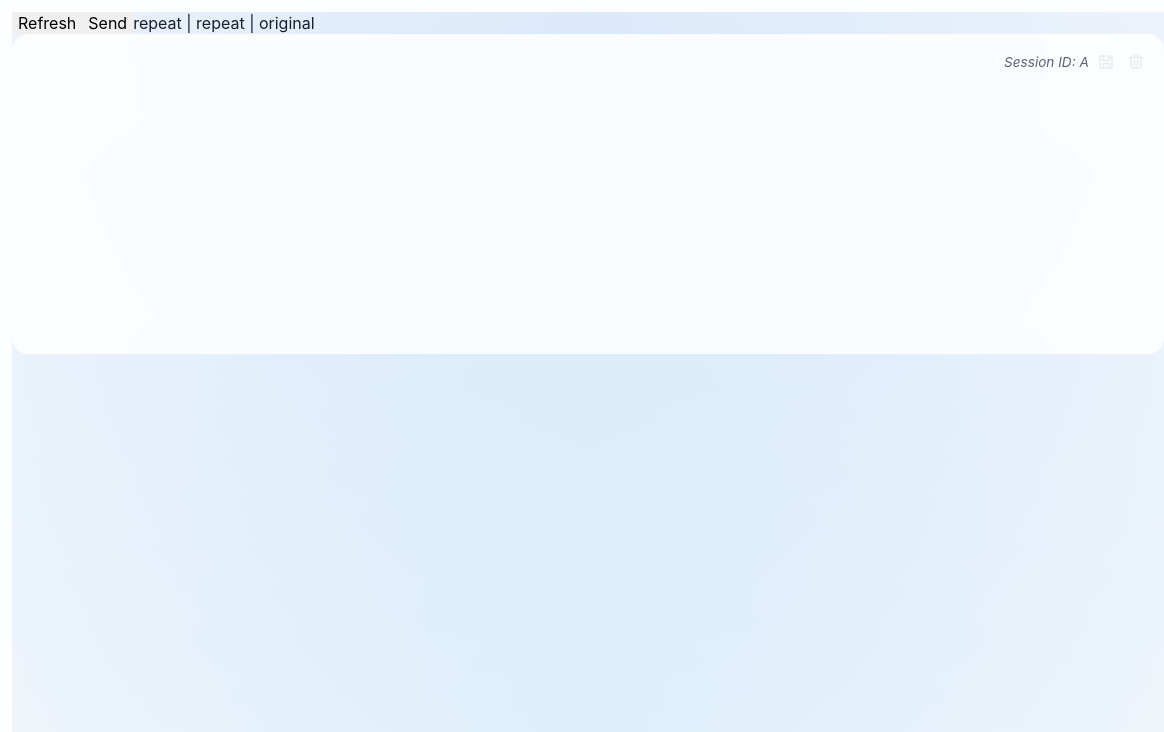
Test: retains a snapshot transcript and actionable history UI on refresh failure, then recovers
Expected: the text named "Transcript" reads "repeat | repeat | original", [133,13,315,33]
Click the button "Refresh": (47, 23) [12,12,82,34]
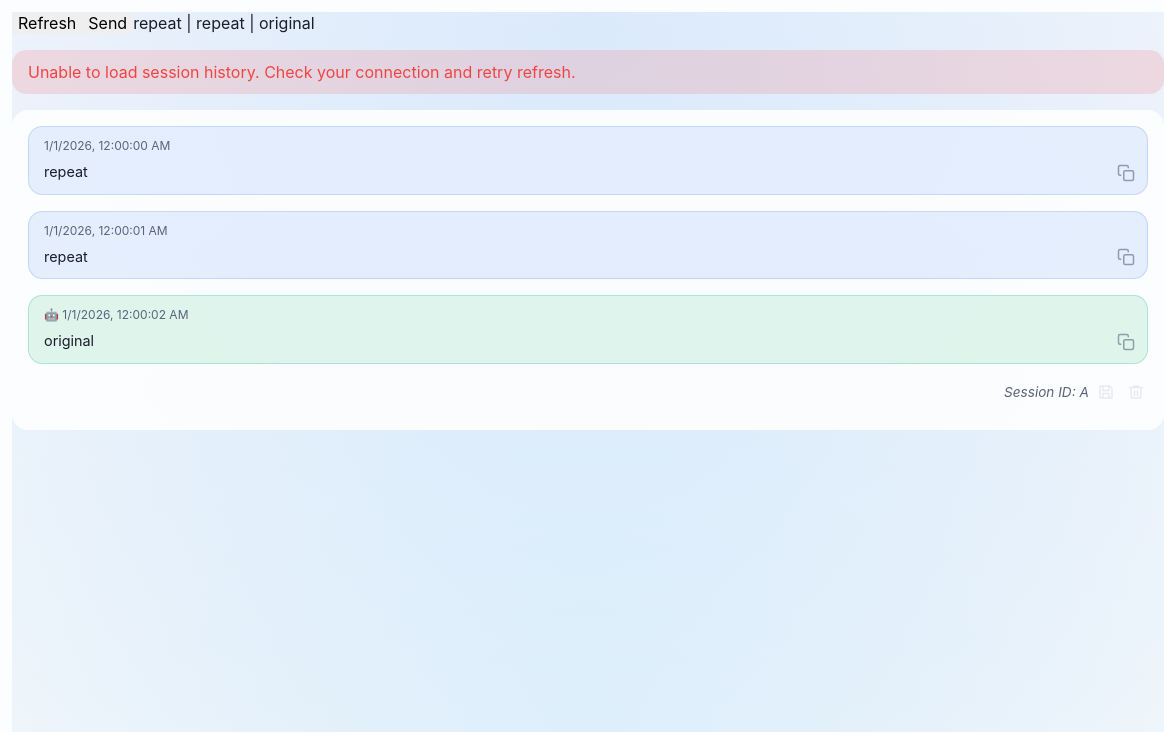
Expected: the text named "Transcript" reads "repeat | repeat | original", [133,13,315,33]
Now the message shows "Check your connection and retry refresh", box [28,62,576,82]
Click the button "Refresh": (47, 23) [12,12,82,34]
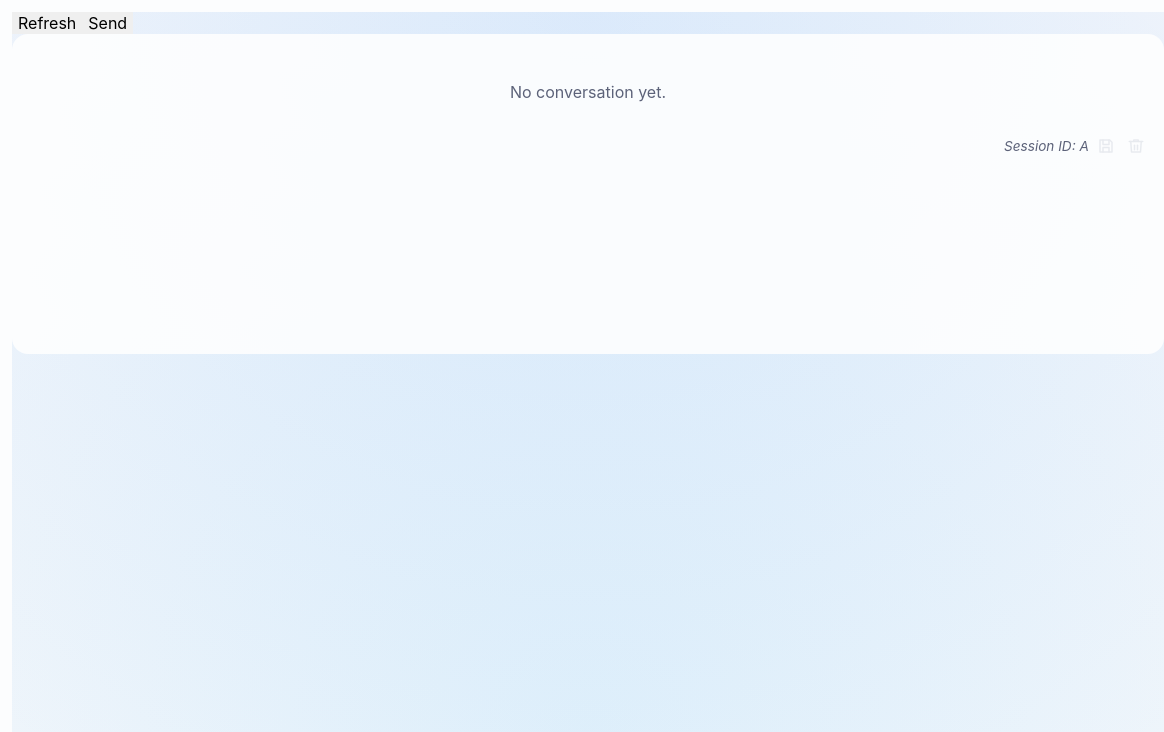
Now the message "Unable to load session history. Check your connection and retry refresh." is gone
Now the text "No conversation yet." is shown, box [510,82,666,102]
